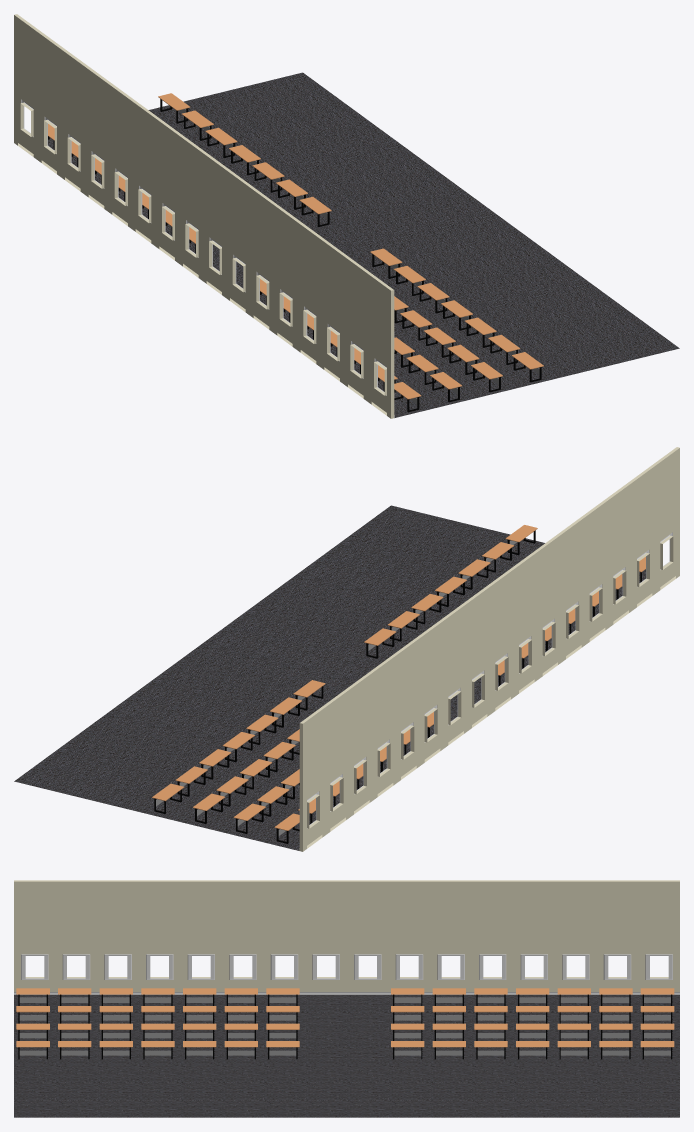
Rendered from ClassRoomMap.fbx.
The picture shows the model from 3 angles, top to bottom: view 1: azimuth 30°, elevation 25°; view 2: azimuth 150°, elevation 25°; view 3: azimuth 270°, elevation 25°; orthographic projection. The views are drawn at different scales.
Parts seen in each view (by area): view 1: Wall.017, Wall.002, Wall.010, Wall.009, Wall.004, Wall.008, Wall.014, Wall.001, Wall.006, Wall.011, Wall.013, Wall.015 (+64 smaller); view 2: Wall.013, Wall.007, Wall.009, Wall.012, Wall.001, Wall.005, Wall.003, Wall.008, Wall.011, Wall.014, Wall.015, Wall.017 (+65 smaller); view 3: Wall.003, Wall.012, Wall.006, Wall.014, Wall.004, Wall.005, Wall.008, Wall.009, Wall.001, Wall.002, Wall.007, Wall.010 (+104 smaller).
Boxes of the visible parts, x1,y1,x2,y2 form: Wall.017: [367, 273, 394, 418]; Wall.002: [249, 186, 275, 332]; Wall.010: [84, 66, 110, 211]; Wall.009: [296, 221, 322, 366]; Wall.004: [202, 152, 228, 297]; Wall.008: [108, 83, 134, 228]; Wall.014: [344, 255, 370, 401]; Wall.001: [273, 204, 299, 349]; Wall.006: [155, 117, 181, 263]; Wall.011: [61, 48, 87, 194]; Wall.013: [14, 14, 40, 159]; Wall.015: [320, 238, 346, 383]; Wall.013: [299, 706, 326, 851]; Wall.007: [418, 619, 444, 765]; Wall.009: [583, 499, 609, 644]; Wall.012: [323, 688, 349, 834]; Wall.001: [559, 516, 585, 661]; Wall.005: [465, 585, 491, 730]; Wall.003: [512, 550, 538, 696]; Wall.008: [394, 637, 420, 782]; Wall.011: [347, 671, 373, 816]; Wall.014: [630, 464, 656, 609]; Wall.015: [606, 481, 632, 627]; Wall.017: [653, 447, 679, 592]; Wall.003: [263, 880, 305, 991]; Wall.012: [596, 880, 638, 991]; Wall.006: [388, 880, 430, 991]; Wall.014: [55, 880, 97, 991]; Wall.004: [305, 880, 346, 991]; Wall.005: [347, 880, 388, 991]; Wall.008: [472, 880, 513, 991]; Wall.009: [139, 880, 180, 991]; Wall.001: [180, 880, 221, 991]; Wall.002: [222, 880, 263, 991]; Wall.007: [430, 880, 471, 991]; Wall.010: [513, 880, 554, 991].
Bounding box in the file's own units: 4246 × 1802 × 9601.
